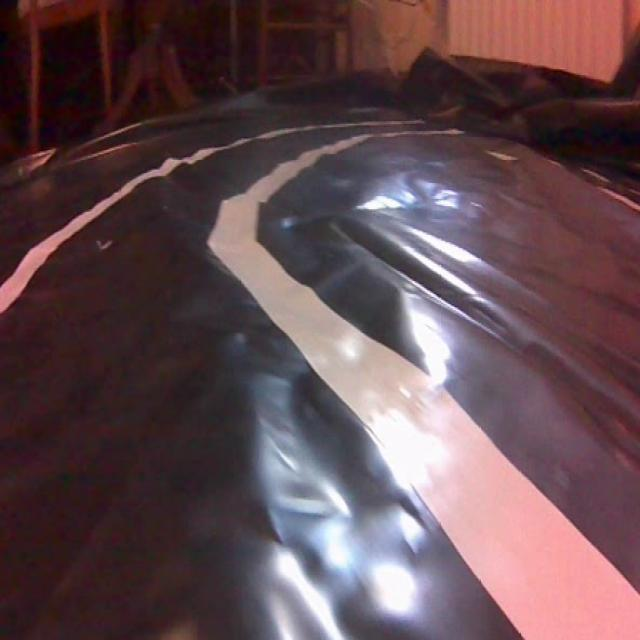LineaCarril: (209, 135, 640, 640), (0, 148, 219, 316)
